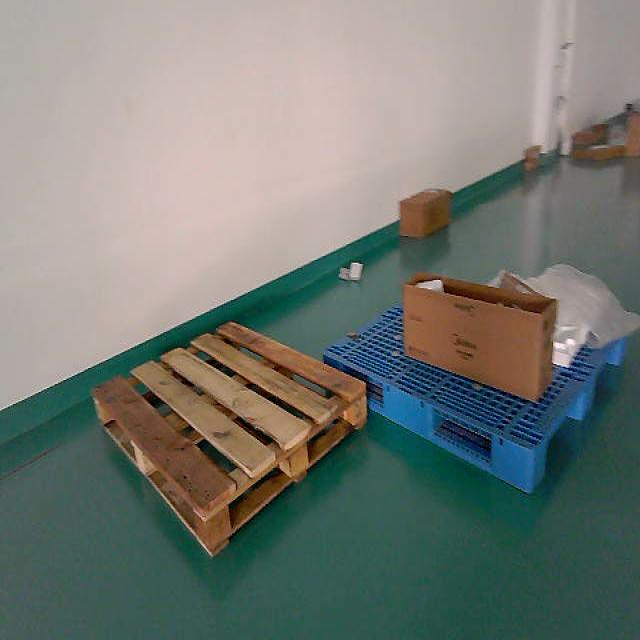euro: (92, 321, 368, 559)
